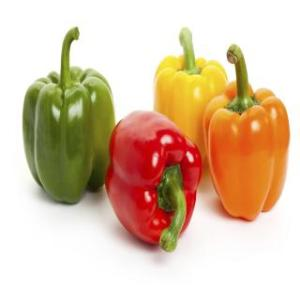bell_pepper: (19, 30, 110, 206), (206, 45, 288, 222), (109, 109, 202, 255), (153, 27, 230, 177)
